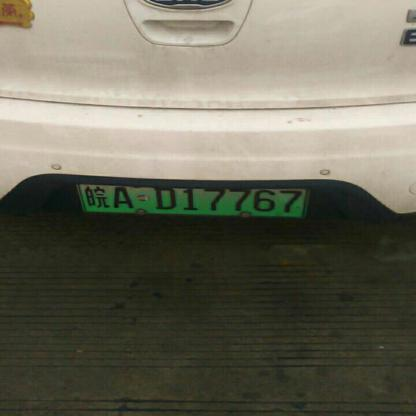lp: (74, 182, 309, 218)
